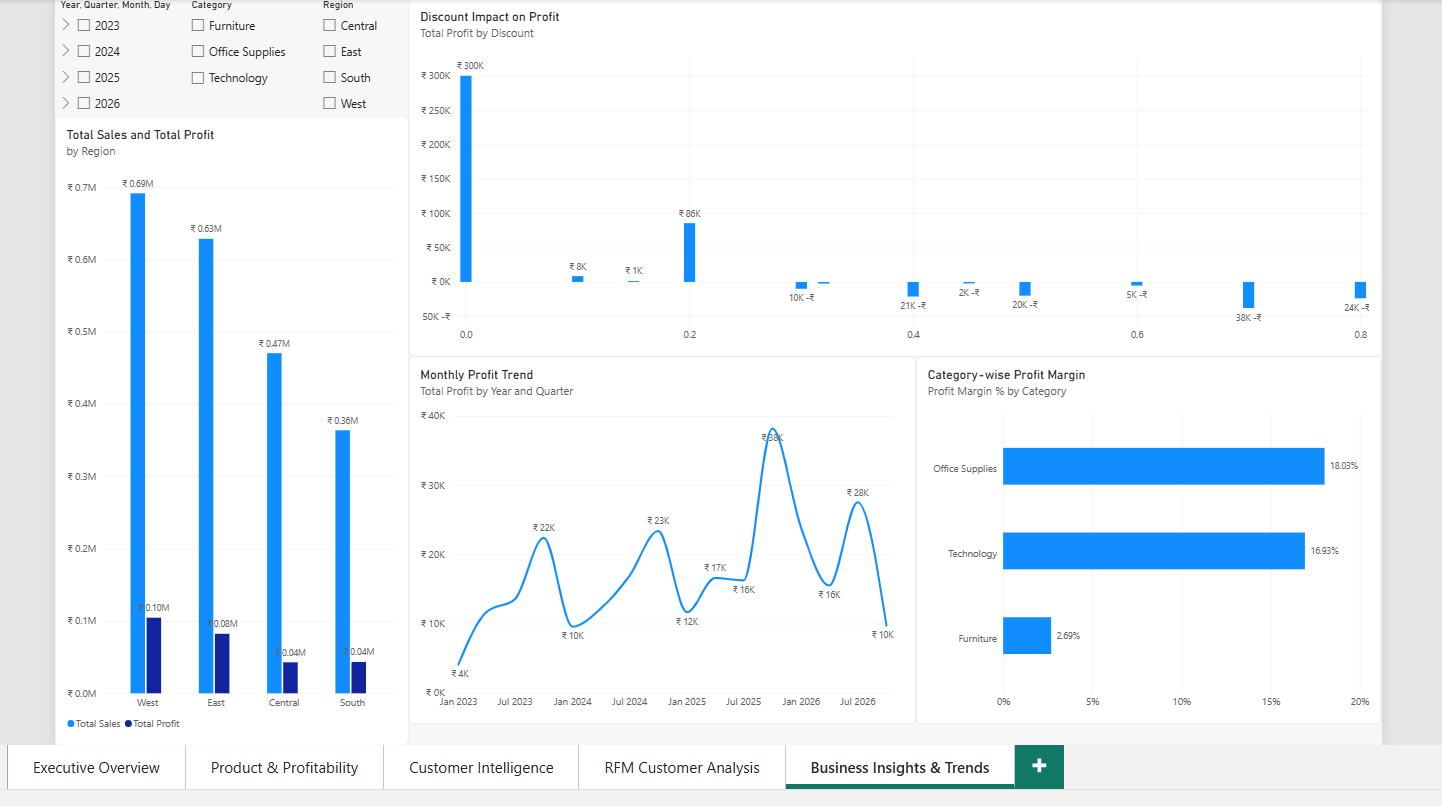

This screenshot's page, from the dashboard's own definition file:
{"tool":"powerbi","page":{"name":"Business Insights & Trends","canvas":[1920,1080],"ordinal":4},"visuals":[{"type":"lineChart","title":"Monthly Profit Trend","fields":{"Category":["Orders.Order Date.Variation.Date Hierarchy.Year","Orders.Order Date.Variation.Date Hierarchy.Quarter","Orders.Order Date.Variation.Date Hierarchy.Month","Orders.Order Date.Variation.Date Hierarchy.Day"],"Y":["Orders.Total Profit"]},"box":[512.1,517.6,734.7,532],"z":0},{"type":"clusteredColumnChart","fields":{"Category":["Orders.Region"],"Y":["Orders.Total Sales","Orders.Total Profit"]},"box":[0,170.1,512.1,910.3],"z":1},{"type":"clusteredColumnChart","title":"Discount Impact on Profit","fields":{"Category":["Orders.Discount"],"Y":["Orders.Total Profit"]},"box":[512.1,0,1407.9,517.6],"z":2},{"type":"clusteredBarChart","title":"Category-wise Profit Margin","fields":{"Category":["Orders.Category"],"Y":["Orders.Profit Margin %"]},"box":[1246.9,517.6,673.2,532],"z":3},{"type":"slicer","fields":{"Values":["Orders.Order Date.Variation.Date Hierarchy.Year","Orders.Order Date.Variation.Date Hierarchy.Quarter","Orders.Order Date.Variation.Date Hierarchy.Month","Orders.Order Date.Variation.Date Hierarchy.Day"]},"box":[0,0,190,170.1],"z":4},{"type":"slicer","fields":{"Values":["Orders.Region"]},"box":[380,0,132.1,170.1],"z":5},{"type":"slicer","fields":{"Values":["Orders.Category"]},"box":[190,0,190,170.1],"z":6}]}

Visuals, with their boxes on the page's 1920x1080 design canvas (x1, y1, x2, y2). These are canvas units, not pixel positions in the 1442x806 screenshot, which may show the page scaled, cropped or inside an application window:
"Monthly Profit Trend" lineChart: Rect(512, 518, 1247, 1050)
clusteredColumnChart - Orders.Region x Orders.Total Sales: Rect(0, 170, 512, 1080)
"Discount Impact on Profit" clusteredColumnChart: Rect(512, 0, 1920, 518)
"Category-wise Profit Margin" clusteredBarChart: Rect(1247, 518, 1920, 1050)
slicer - Orders.Order Date.Variation.Date Hierarchy.Year x Orders.Order Date.Variation.Date Hierarchy.Quarter: Rect(0, 0, 190, 170)
slicer - Orders.Region: Rect(380, 0, 512, 170)
slicer - Orders.Category: Rect(190, 0, 380, 170)
